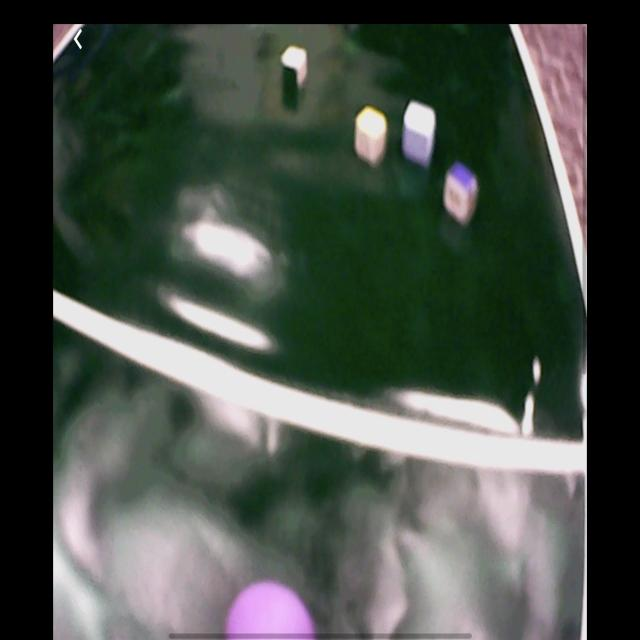ball: (226, 581, 317, 640)
